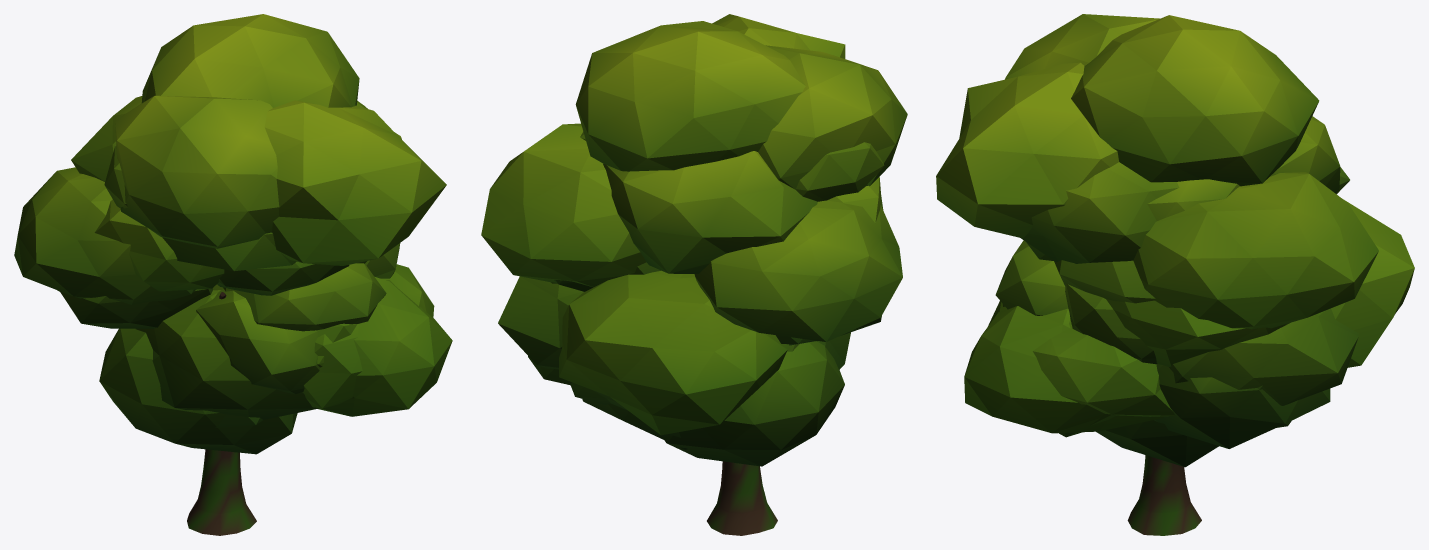
The model's file is bigleaf-maple-b.glb.
3 views of the same model, side by side, from view 1: azimuth 30°, elevation 25°; view 2: azimuth 150°, elevation 25°; view 3: azimuth 270°, elevation 25° (orthographic). The views are drawn at different scales.
Parts seen in each view (by area): view 1: bigleaf-maple-b.Leaves, bigleaf-maple-b.Bark; view 2: bigleaf-maple-b.Leaves, bigleaf-maple-b.Bark; view 3: bigleaf-maple-b.Leaves, bigleaf-maple-b.Bark.
Boxes of the visible parts, x1,y1,x2,y2 form: bigleaf-maple-b.Leaves: [14, 14, 452, 454]; bigleaf-maple-b.Bark: [187, 292, 256, 535]; bigleaf-maple-b.Leaves: [481, 14, 907, 466]; bigleaf-maple-b.Bark: [707, 461, 777, 535]; bigleaf-maple-b.Leaves: [936, 14, 1414, 467]; bigleaf-maple-b.Bark: [1127, 455, 1201, 535].
Size of the model in its own units: 9.82 by 12.01 by 10.24.
